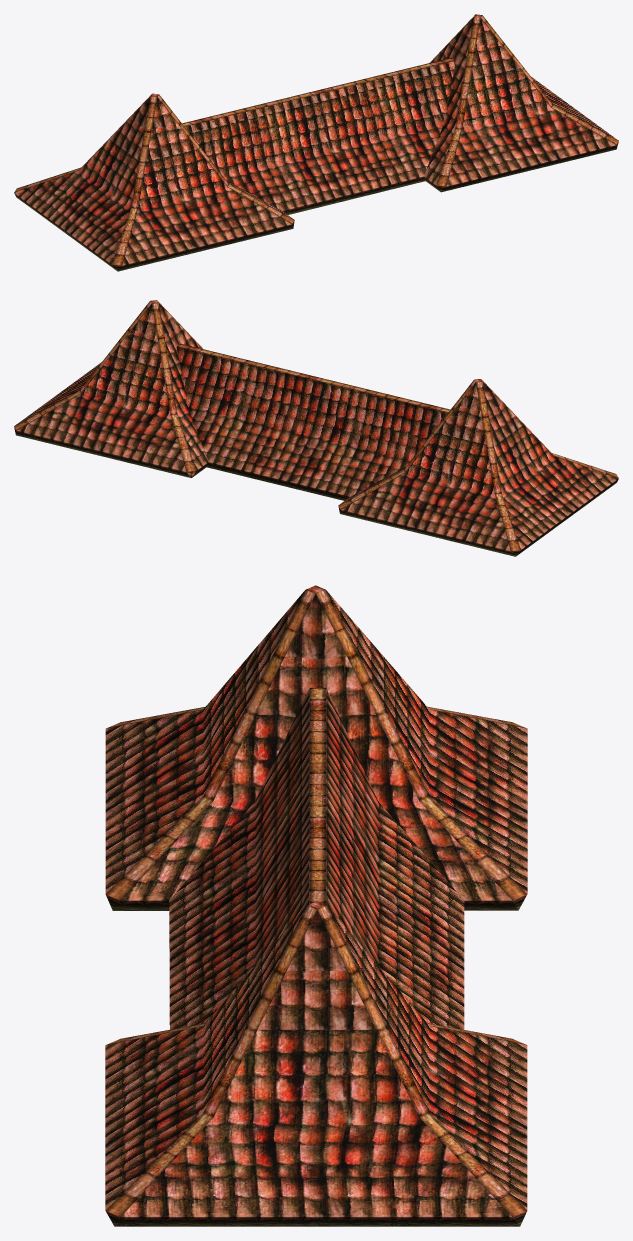
3 views of the same model, one above another, from view 1: azimuth 30°, elevation 25°; view 2: azimuth 150°, elevation 25°; view 3: azimuth 270°, elevation 25° (orthographic). The views are drawn at different scales.
Visible parts, largest first — view 1: cc20-col; view 2: cc20-col; view 3: cc20-col.
Part boxes in pixels (x1,y1,x2,y2): cc20-col: (14,14,618,271); cc20-col: (14,300,618,556); cc20-col: (105,585,527,1226).
Size of the model in its own units: 18.59 by 4.12 by 6.7.
5 materials, 5 textured.
